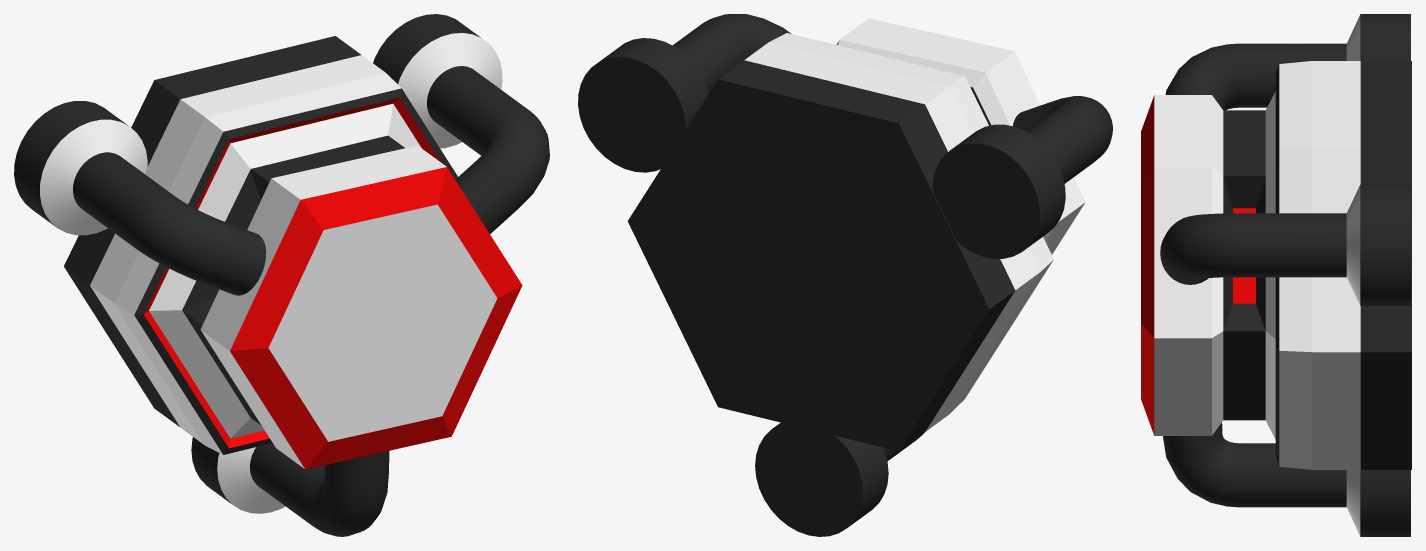
The model's file is compositeMaterialFactory.obj.
3 renders of one model, left to right at view 1: azimuth 30°, elevation 25°; view 2: azimuth 150°, elevation 25°; view 3: azimuth 270°, elevation 25°, orthographic.
Parts seen in each view (by area): view 1: Cylinder.001, Cylinder.003_Cylinder.001, Cylinder.002_Cylinder.001, Cylinder.003_Cylinder.002; view 2: Cylinder.001, Cylinder.003_Cylinder.001, Cylinder.002_Cylinder.001, Cylinder.003_Cylinder.002; view 3: Cylinder.001, Cylinder.002_Cylinder.001, Cylinder.003_Cylinder.002, Cylinder.003_Cylinder.001.
Part boxes in pixels (x1,y1,x2,y2): Cylinder.001: (64, 36, 522, 469); Cylinder.003_Cylinder.001: (14, 101, 266, 295); Cylinder.002_Cylinder.001: (373, 14, 549, 233); Cylinder.003_Cylinder.002: (191, 437, 389, 536); Cylinder.001: (627, 18, 1085, 451); Cylinder.003_Cylinder.001: (932, 96, 1112, 258); Cylinder.002_Cylinder.001: (578, 14, 791, 172); Cylinder.003_Cylinder.002: (755, 422, 924, 536); Cylinder.001: (1141, 61, 1411, 469); Cylinder.002_Cylinder.001: (1160, 184, 1410, 305); Cylinder.003_Cylinder.002: (1163, 422, 1410, 536); Cylinder.003_Cylinder.001: (1165, 14, 1410, 110).
Size of the model in its own units: 1.89 by 1.7 by 0.9773.
